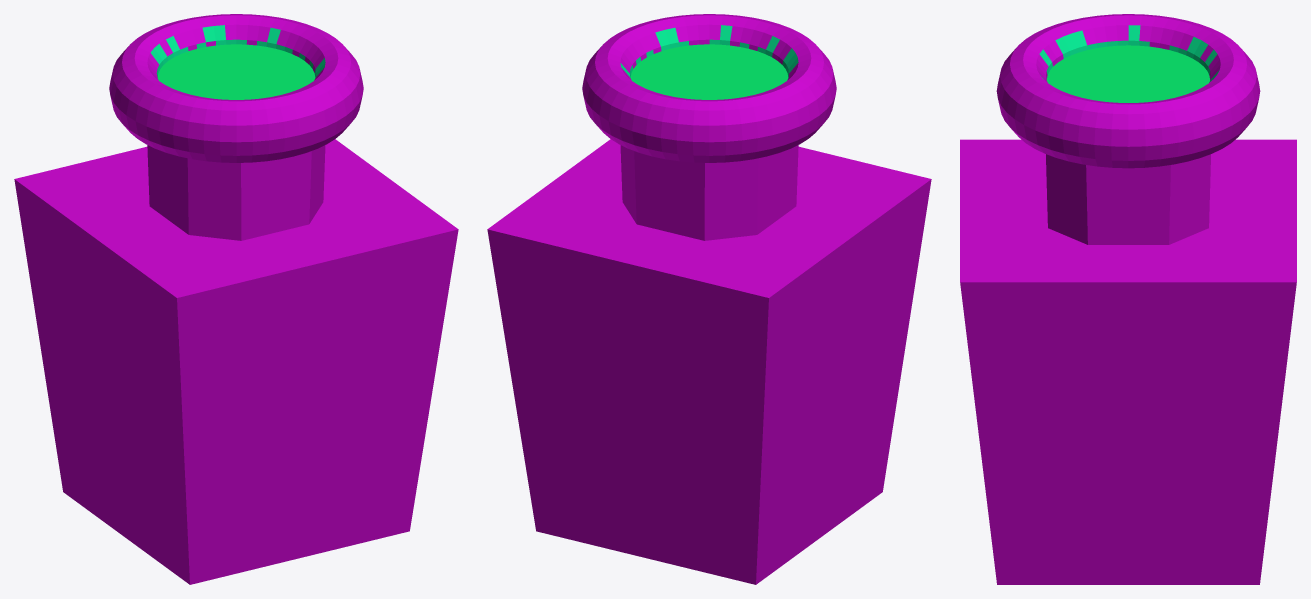
File: magic sauce.gltf
3 views of the same model, side by side, from view 1: azimuth 30°, elevation 25°; view 2: azimuth 150°, elevation 25°; view 3: azimuth 270°, elevation 25° (orthographic). The views are drawn at different scales.
Visible parts, largest first — view 1: Cube.001, Torus, Cube.002; view 2: Cube.001, Torus, Cube.002; view 3: Cube.001, Torus, Cube.002.
Boxes of the visible parts, bbox=[...] form: Cube.001: bbox=[14, 139, 458, 584]; Torus: bbox=[109, 14, 363, 162]; Cube.002: bbox=[147, 44, 325, 240]; Cube.001: bbox=[487, 139, 931, 584]; Torus: bbox=[582, 14, 836, 162]; Cube.002: bbox=[620, 44, 798, 240]; Cube.001: bbox=[960, 139, 1296, 584]; Torus: bbox=[996, 14, 1260, 168]; Cube.002: bbox=[1046, 45, 1210, 244].
Size of the model in its own units: 0.955 by 1.47 by 0.955.
